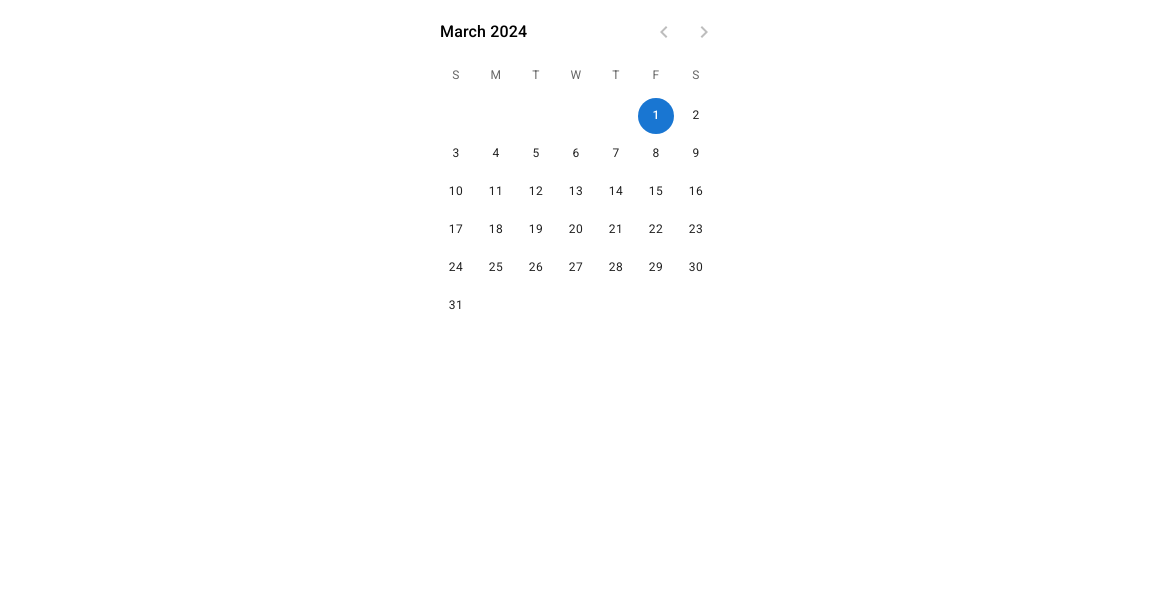
it: Calendar Component › Date Selection and Popup Behavior › should open popup when clicking a date
Click the cell "1" at (656, 116), box [638,98,674,134]
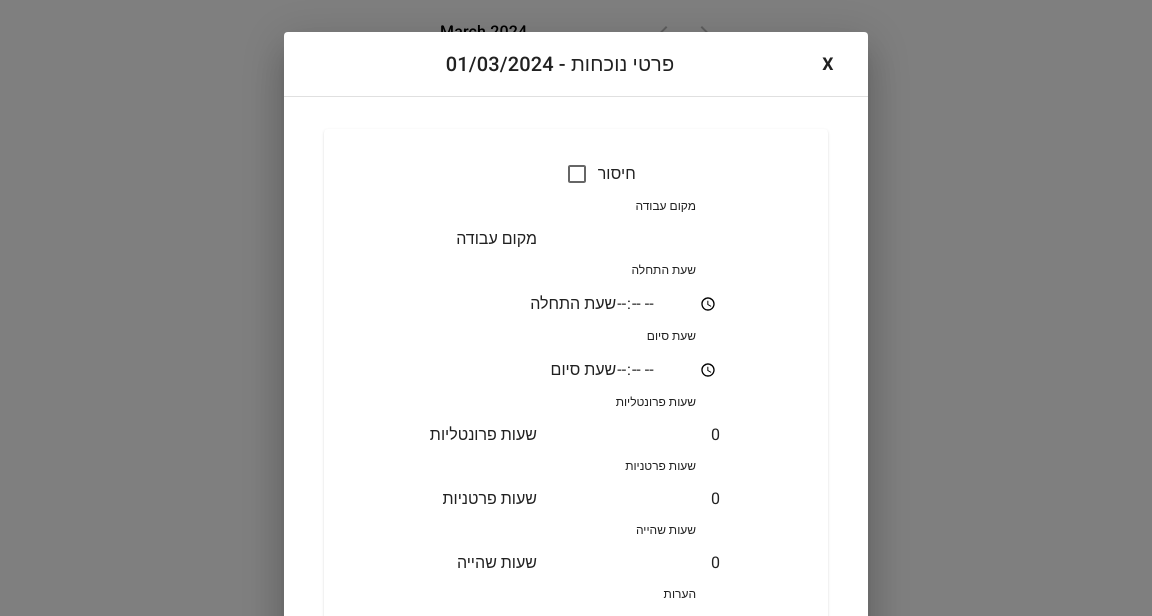
Expected: the text "01/03/2024 - פרטי נוכחות" is shown, [446,52,674,76]
